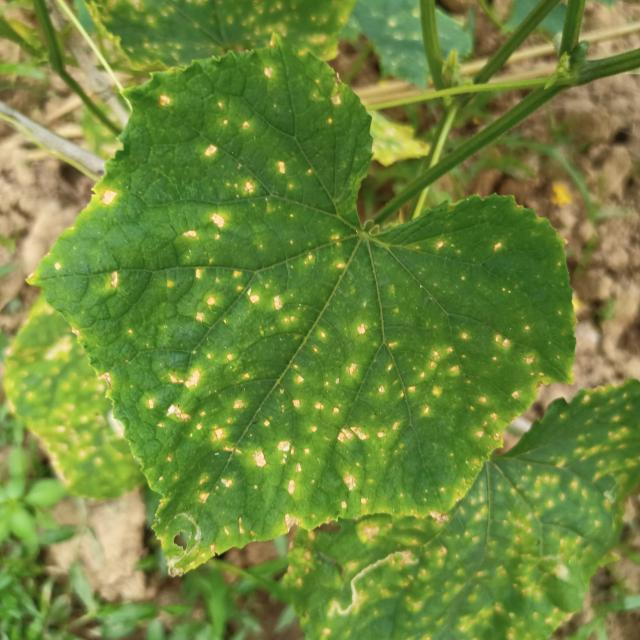disease_cucumber: (57, 235, 565, 520), (148, 62, 350, 245), (97, 183, 123, 210)
